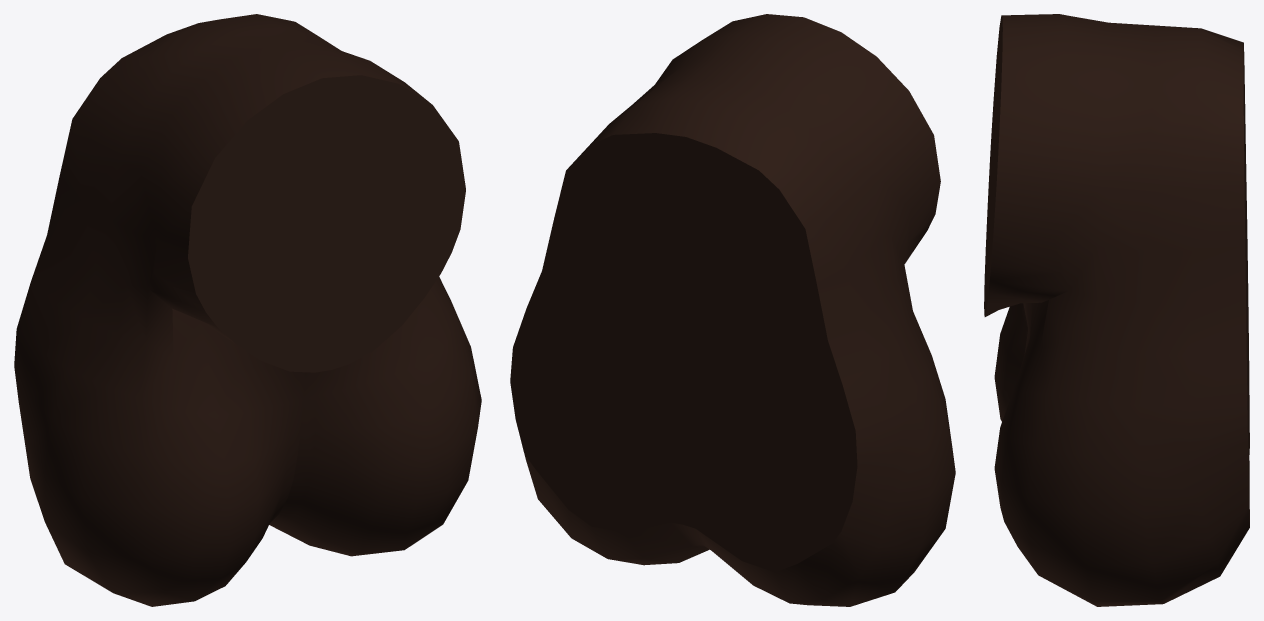
Rendered from BallsOnlyBroken.fbx.
The picture shows the model from 3 angles, left to right: view 1: azimuth 30°, elevation 25°; view 2: azimuth 150°, elevation 25°; view 3: azimuth 270°, elevation 25°; orthographic projection. The views are drawn at different scales.
Parts seen in each view (by area): view 1: Balls; view 2: Balls; view 3: Balls.
Part boxes in pixels (<box>): Balls: <box>14,14,481,606</box>; Balls: <box>510,14,955,606</box>; Balls: <box>984,14,1249,606</box>.
Size of the model in its own units: 6.99 by 8.75 by 4.03.
